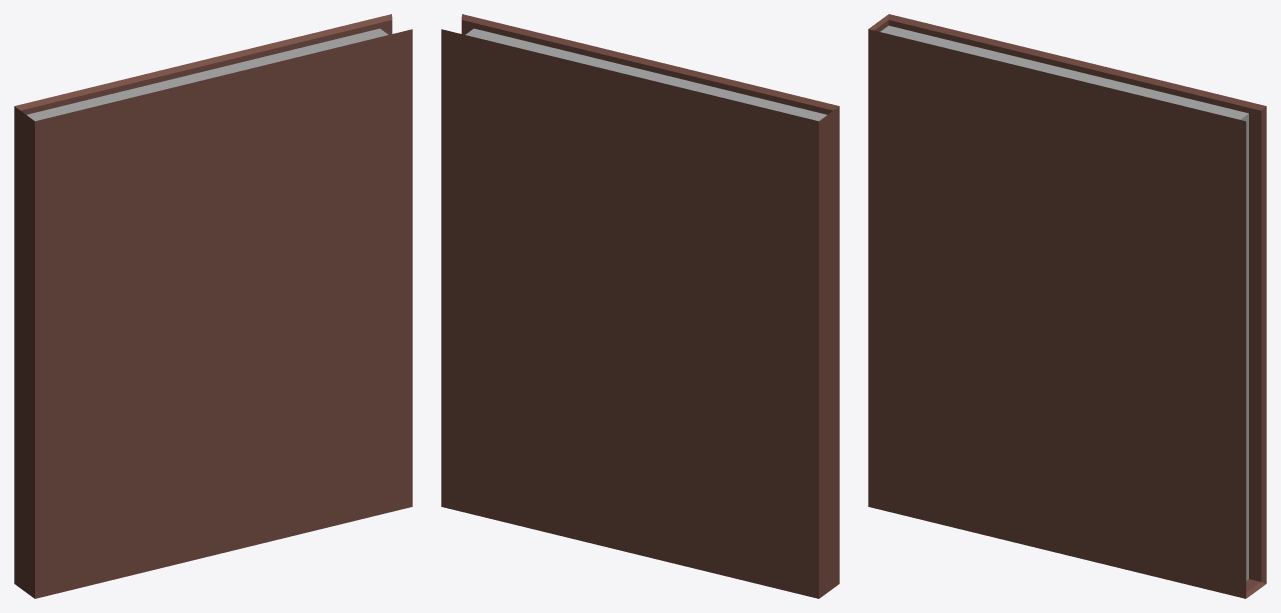
The model's file is Book_Red_Blockout.fbx.
The picture shows the model from 3 angles, left to right: view 1: azimuth 30°, elevation 25°; view 2: azimuth 150°, elevation 25°; view 3: azimuth 330°, elevation 25°; orthographic projection.
Parts seen in each view (by area): view 1: Book_Red_Blockout; view 2: Book_Red_Blockout; view 3: Book_Red_Blockout.
Part boxes in pixels (box(x1,y1,x2,y2)): Book_Red_Blockout: box(14, 14, 412, 598); Book_Red_Blockout: box(441, 14, 839, 598); Book_Red_Blockout: box(868, 14, 1266, 598).
Size of the model in its own units: 56.92 by 68.79 by 5.4.
